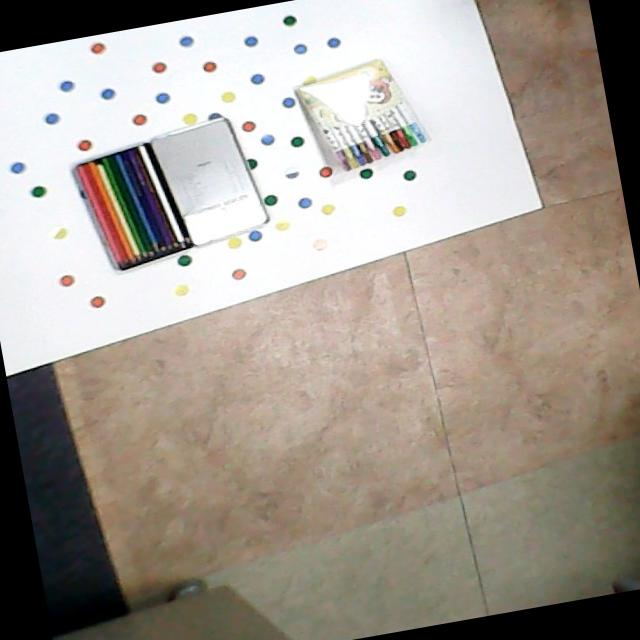color: (58, 139, 197, 285)
signpen: (282, 45, 440, 180)
